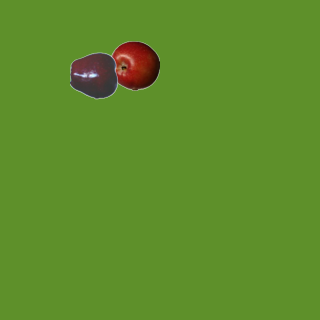Apple Braeburn: (109, 40, 159, 90)
Apple Red Delicious: (69, 50, 119, 100)
